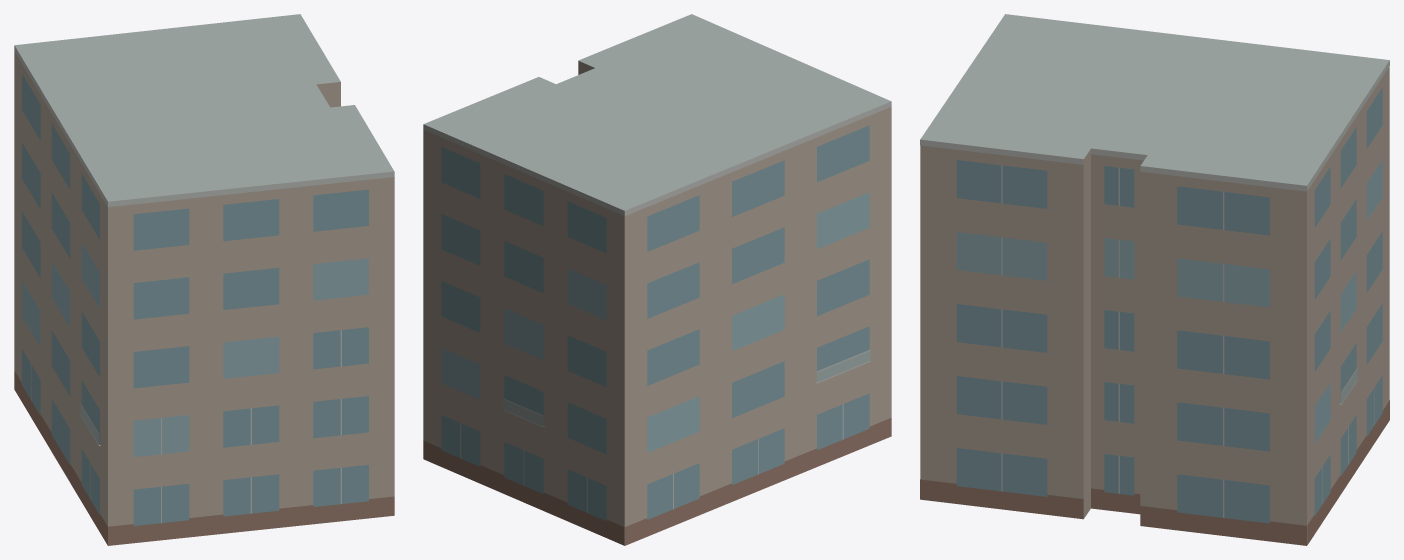
File: survey-upis-32978043.glb
3 views of the same model, side by side, from view 1: azimuth 30°, elevation 25°; view 2: azimuth 150°, elevation 25°; view 3: azimuth 270°, elevation 25° (orthographic). The views are drawn at different scales.
Visible parts, largest first — view 1: survey-upis-32978043.tmp; view 2: survey-upis-32978043.tmp; view 3: survey-upis-32978043.tmp.
Part boxes in pixels (left/top/right/bottom): survey-upis-32978043.tmp: left=14, top=14, right=394, bottom=545; survey-upis-32978043.tmp: left=423, top=14, right=891, bottom=545; survey-upis-32978043.tmp: left=920, top=14, right=1389, bottom=545.
Size of the model in its own units: 15.62 by 15.25 by 18.04.
